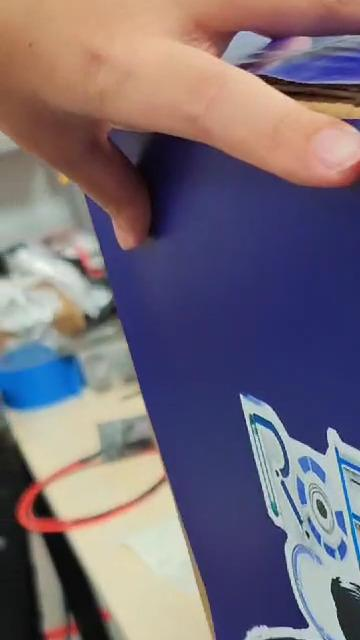B_R1: (202, 370, 360, 640)
